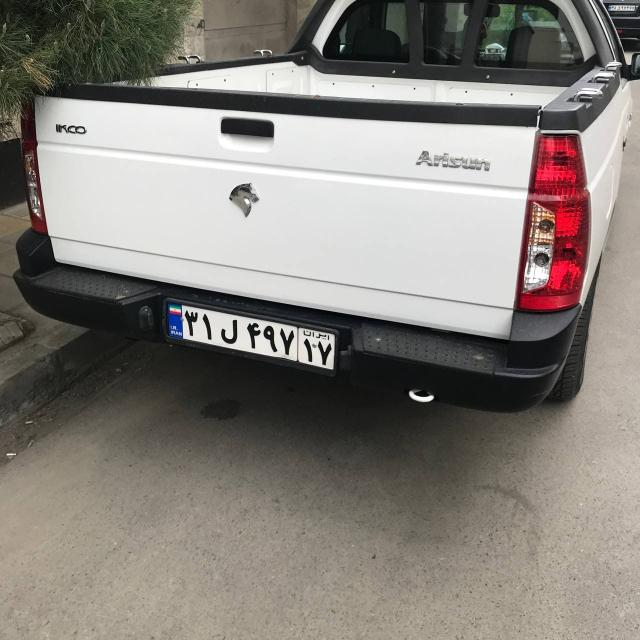Plates: (161, 303, 340, 370)
